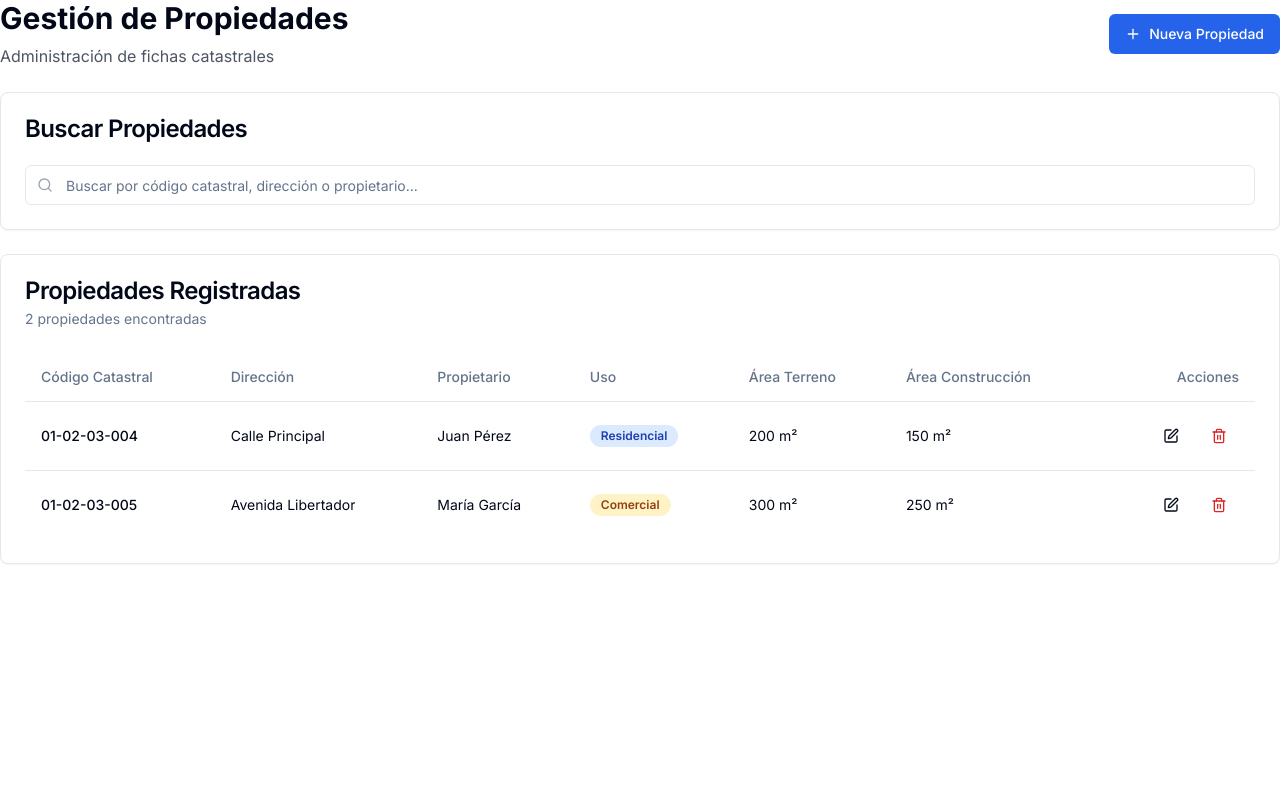
Catastro Integration Tests › Properties Management › opens dialog when clicking new property button
This screenshot has width=1280, height=800.
Expected: the text "01-02-03-004" is shown, top-left (25, 401), bottom-right (215, 470)
Click the button "Nueva Propiedad" at (1195, 34), box top-left (1109, 14), bottom-right (1279, 54)
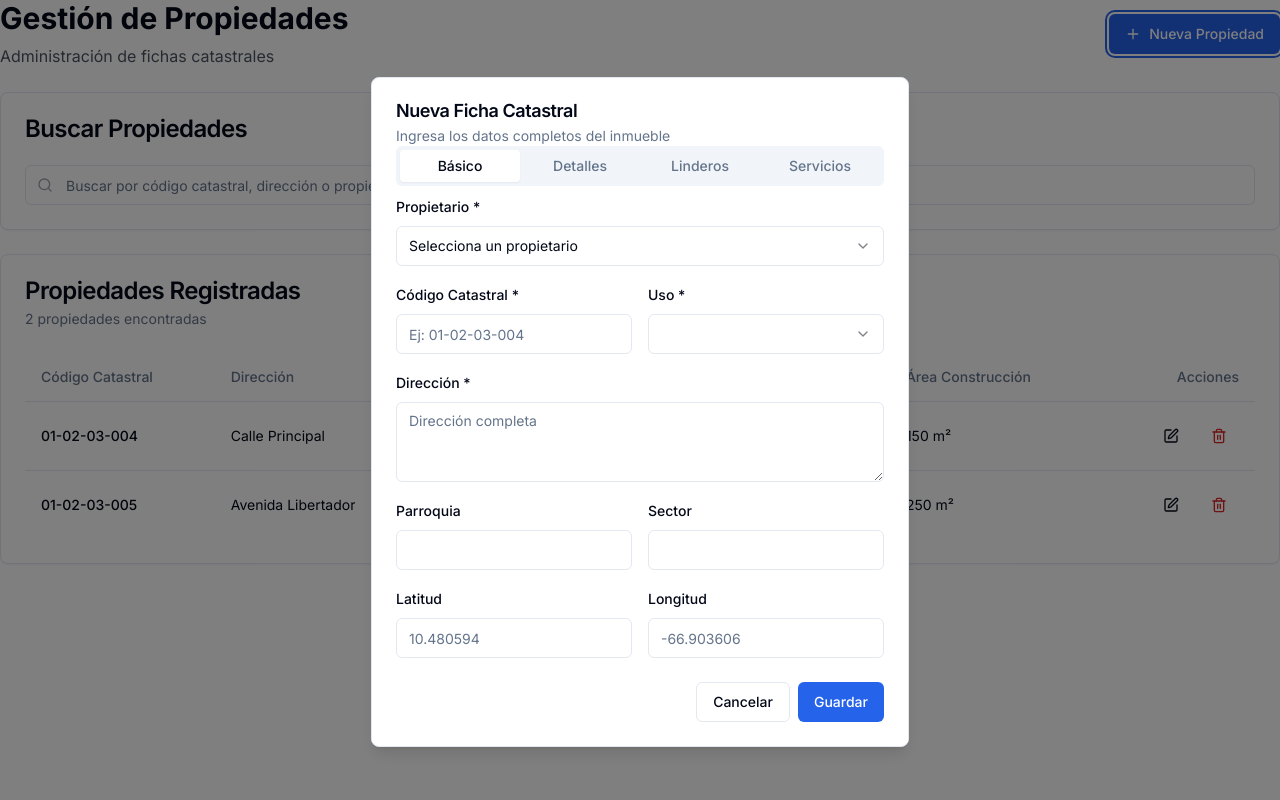
Expected: the heading "Nueva Ficha Catastral" is shown, top-left (396, 100), bottom-right (577, 121)
